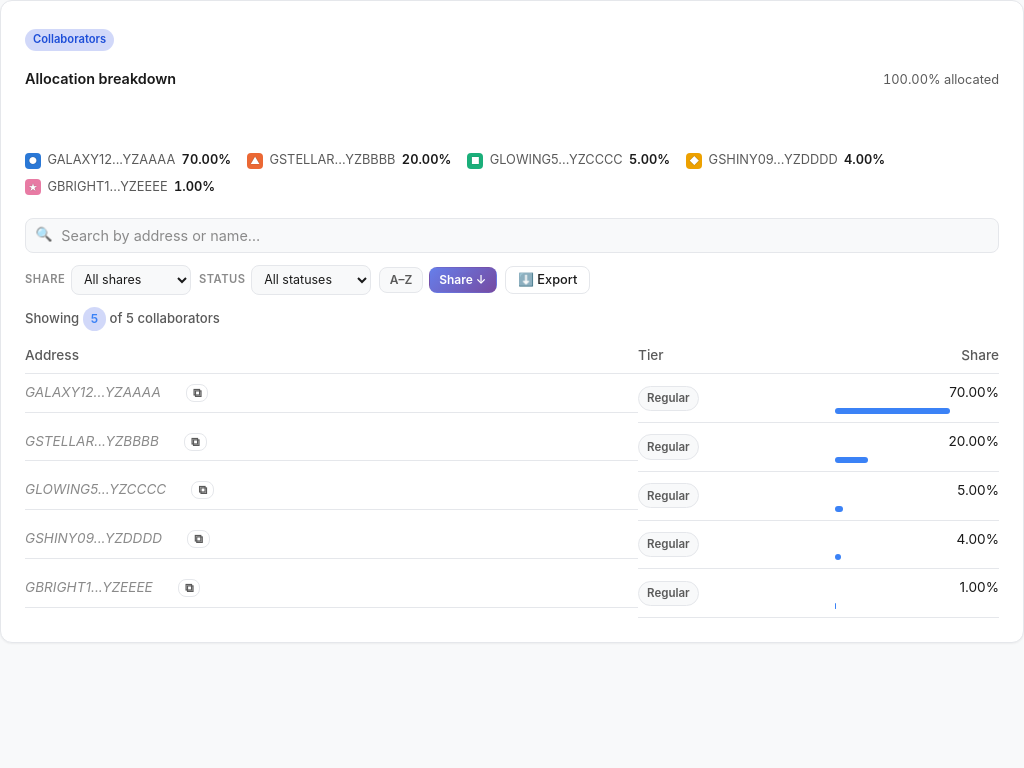
Test: CollaboratorTable allocation chart › Multi-format Export (#896) › renders export button and toggles dropdown menu
Expected: the text "Showing 5 of 5 collaborators" is shown, [25,307,220,331]
Click to open menu
Step 1. Click the button with aria-label "Export collaborator data" → (548, 280), box [505,266,590,294]
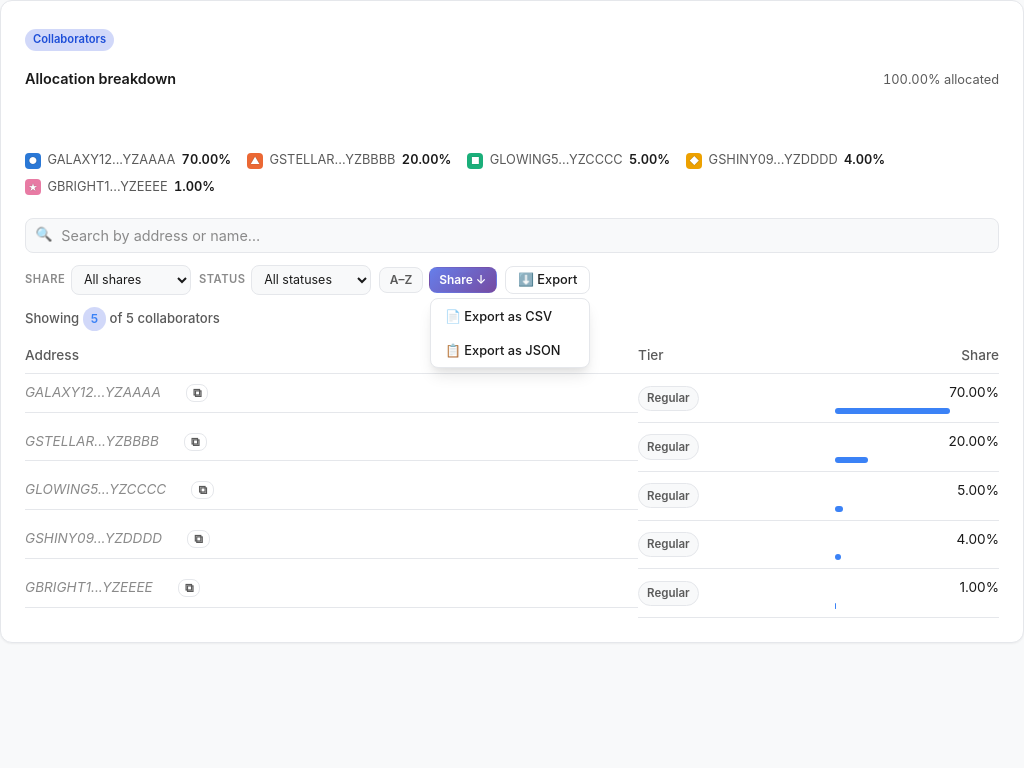
Expected: the menu item with test id "export-collaborators-csv" is shown, [431,299,589,333]
Expected: the menu item with test id "export-collaborators-json" is shown, [431,333,589,367]
